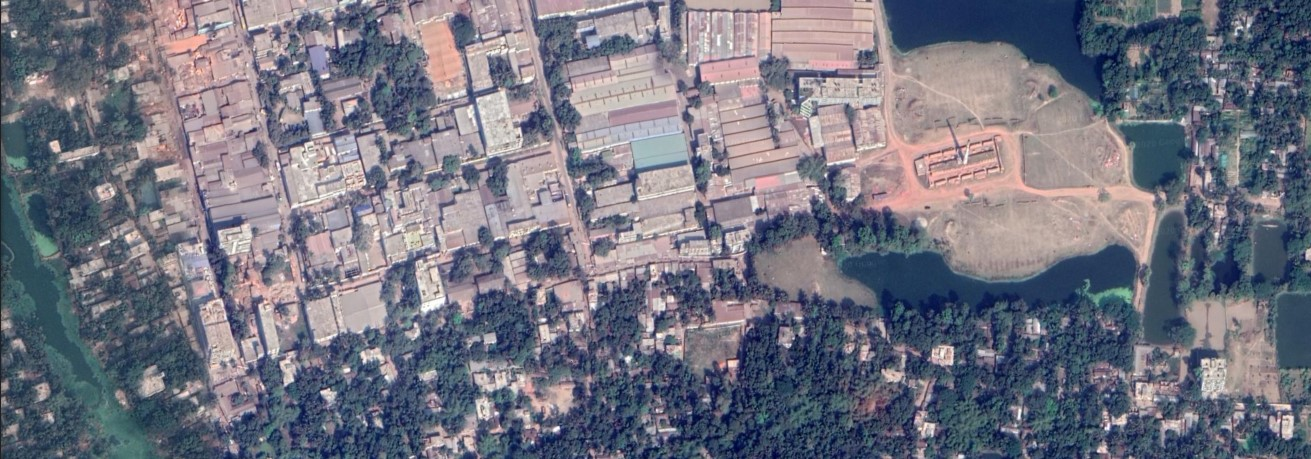kiln: (904, 136, 1011, 189)
